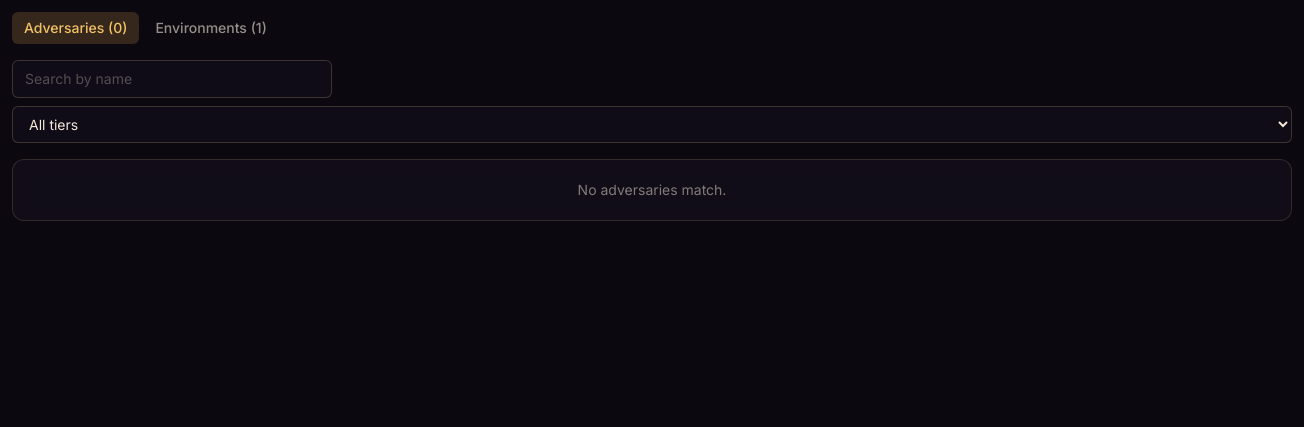
Test: BestiaryPage › prompts to create a Library world before an environment can be added
Step 1. Click the button "Environments (1)" → point(211, 28), box [143,12,279,44]
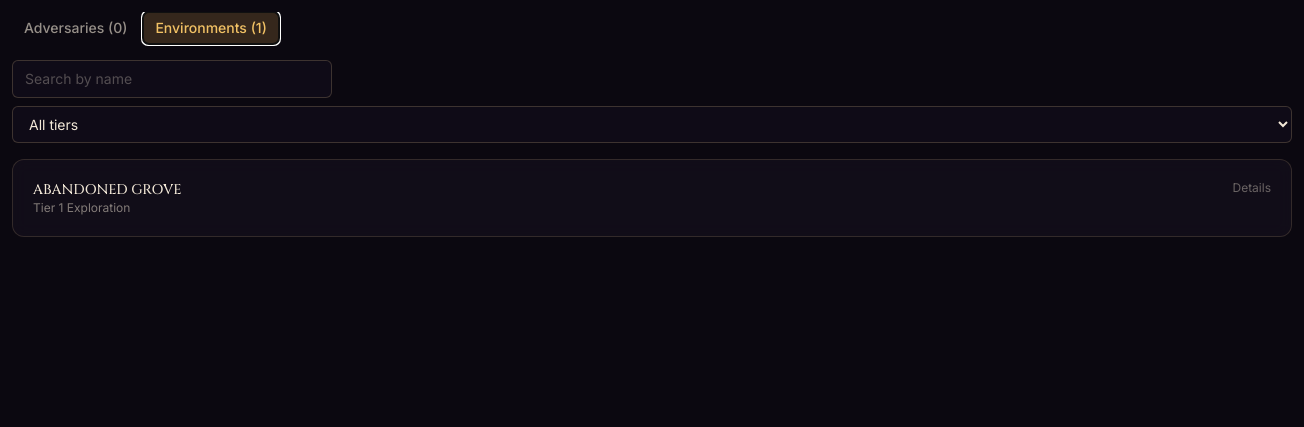
Expected: the heading "ABANDONED GROVE" is shown, [33,180,182,200]
Step 2. Click the button "ABANDONED GROVE Tier 1 Exploration Details" → point(107, 190), box [33,180,1271,216]
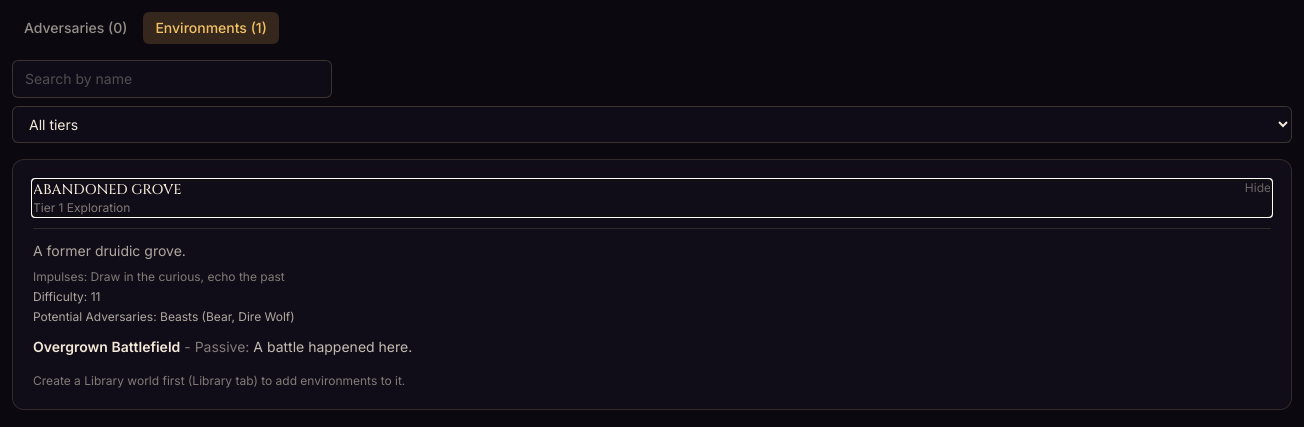
Expected: the text "Create a Library world first" is shown, [33,373,405,388]
